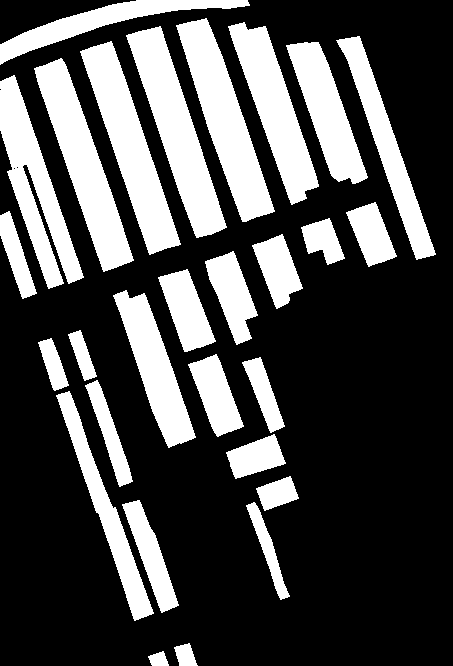parkingspot: (336, 36, 435, 259), (92, 41, 180, 248), (46, 58, 133, 266), (126, 30, 212, 237), (141, 26, 226, 234), (80, 46, 165, 254), (34, 64, 118, 271), (0, 75, 83, 283), (190, 18, 274, 216), (176, 21, 259, 221), (0, 0, 249, 64), (228, 22, 306, 204), (246, 26, 318, 191), (113, 290, 180, 447), (128, 293, 195, 443), (286, 42, 352, 181), (303, 42, 367, 183), (7, 166, 63, 288), (56, 391, 112, 512), (122, 500, 178, 612), (98, 507, 153, 620), (85, 380, 132, 486), (246, 502, 289, 599), (205, 256, 251, 344), (158, 272, 200, 351), (188, 359, 231, 436), (174, 269, 215, 347), (242, 357, 284, 432), (0, 211, 36, 298), (203, 354, 243, 431), (219, 251, 257, 320), (252, 240, 289, 308), (0, 89, 28, 168), (360, 202, 396, 262), (267, 234, 302, 294), (346, 207, 381, 266), (230, 445, 285, 478), (226, 434, 279, 466), (38, 338, 68, 390), (256, 476, 298, 510), (68, 330, 96, 380), (314, 218, 344, 264), (301, 222, 323, 253), (174, 643, 197, 666), (148, 651, 168, 666)
